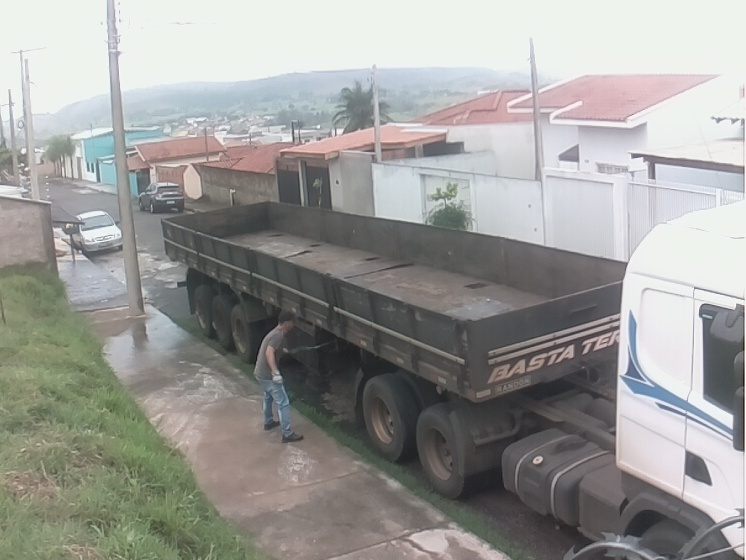person: (252, 310, 309, 442)
